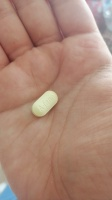Aferin: (30, 90, 59, 118)
